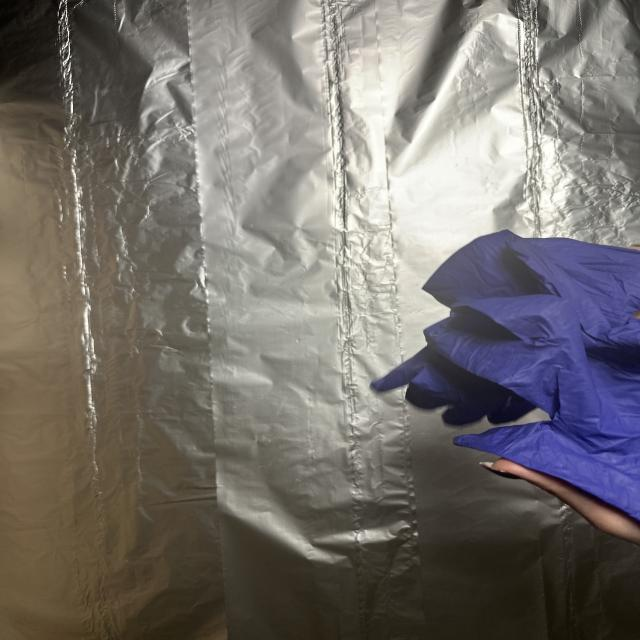glove_not_fitted: (416, 224, 640, 544)
